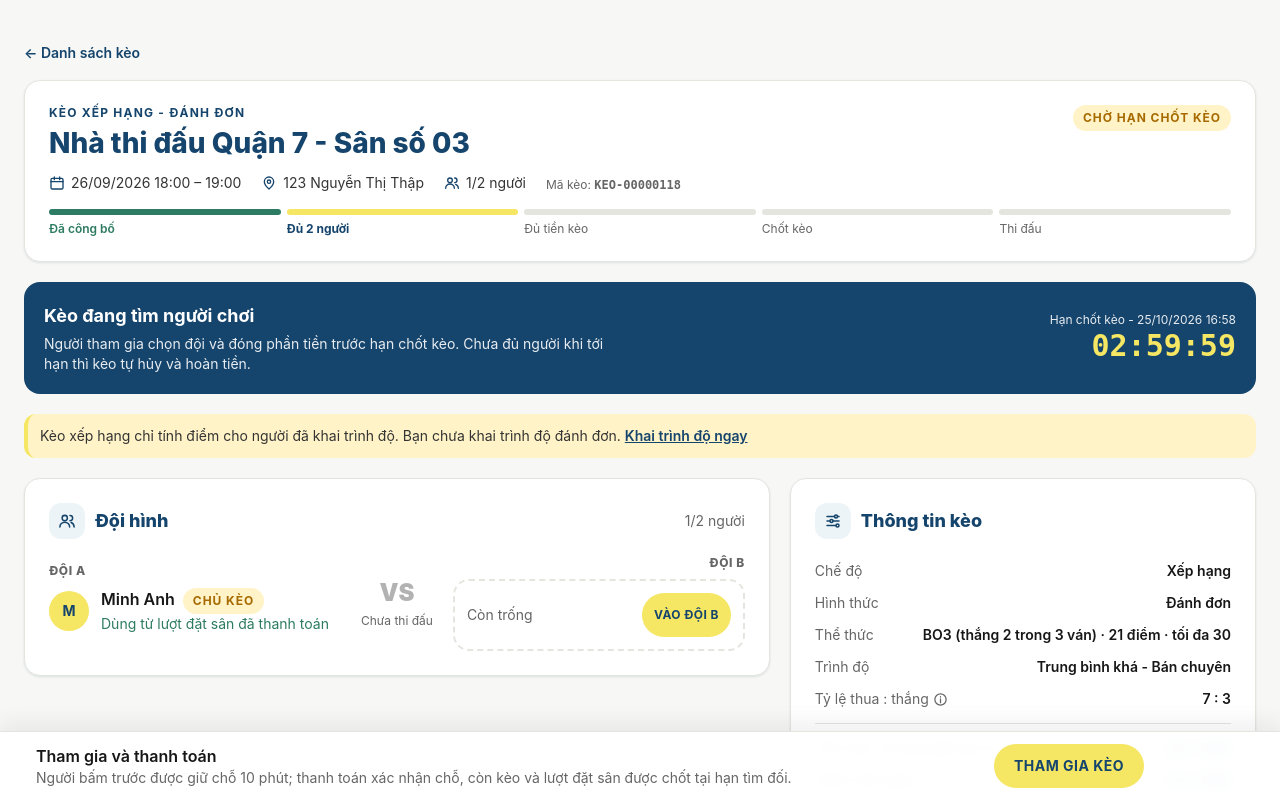
asks the player to declare their level before joining a ranked match and links to the passport
This screenshot has width=1280, height=800.
Expected: the text "Bạn chưa khai trình độ đánh đơn" is shown, 24,414 -> 1256,458
Click the button "Vào đội B" at (686, 615), box 642,593 -> 731,637
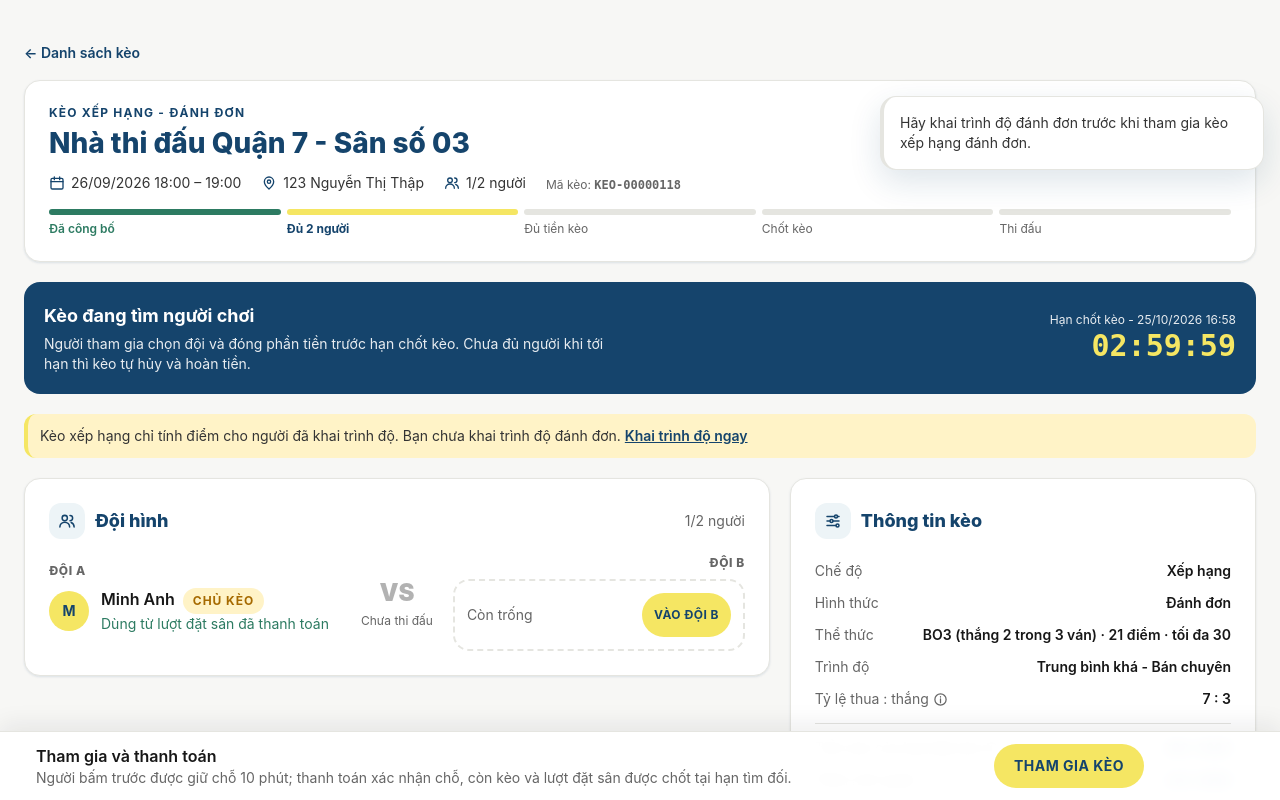
Expected: the text "Hãy khai trình độ đánh đơn trước khi tham gia kèo xếp hạng đánh đơn." is shown, 880,96 -> 1264,170
